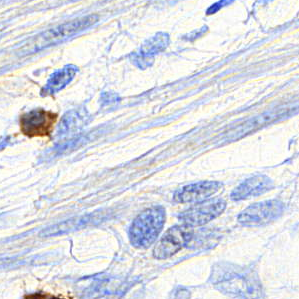Lymphocyte: (18, 106, 59, 140)
